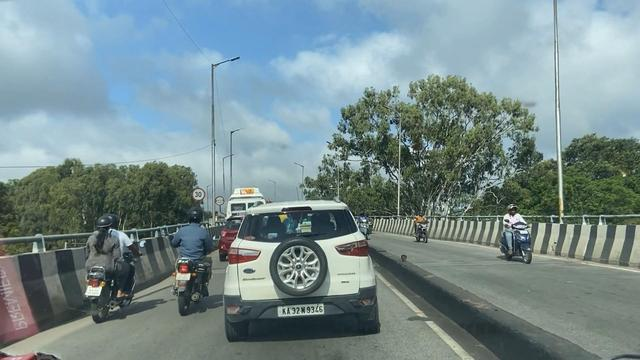LMV: (223, 196, 377, 345), (85, 205, 139, 321), (171, 203, 209, 309)
